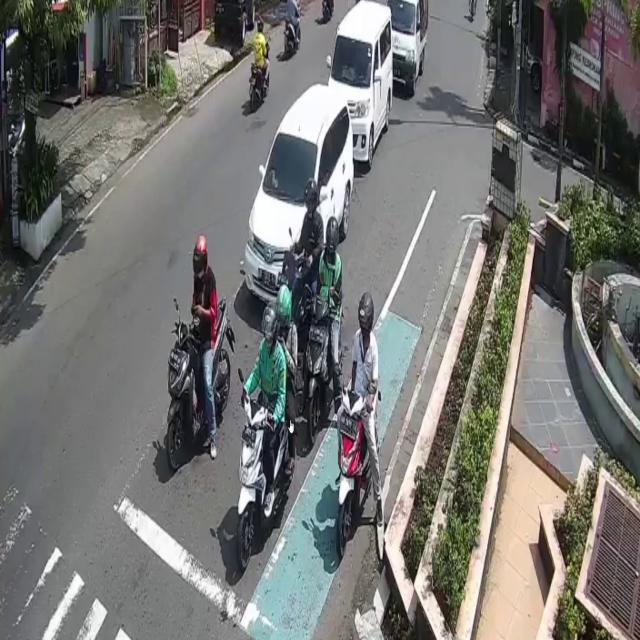bus: (163, 297, 234, 474), (237, 396, 290, 568), (337, 387, 372, 555), (305, 298, 333, 447), (248, 42, 271, 114)
motorcycle: (243, 81, 354, 319), (329, 0, 394, 162), (388, 0, 427, 94)
